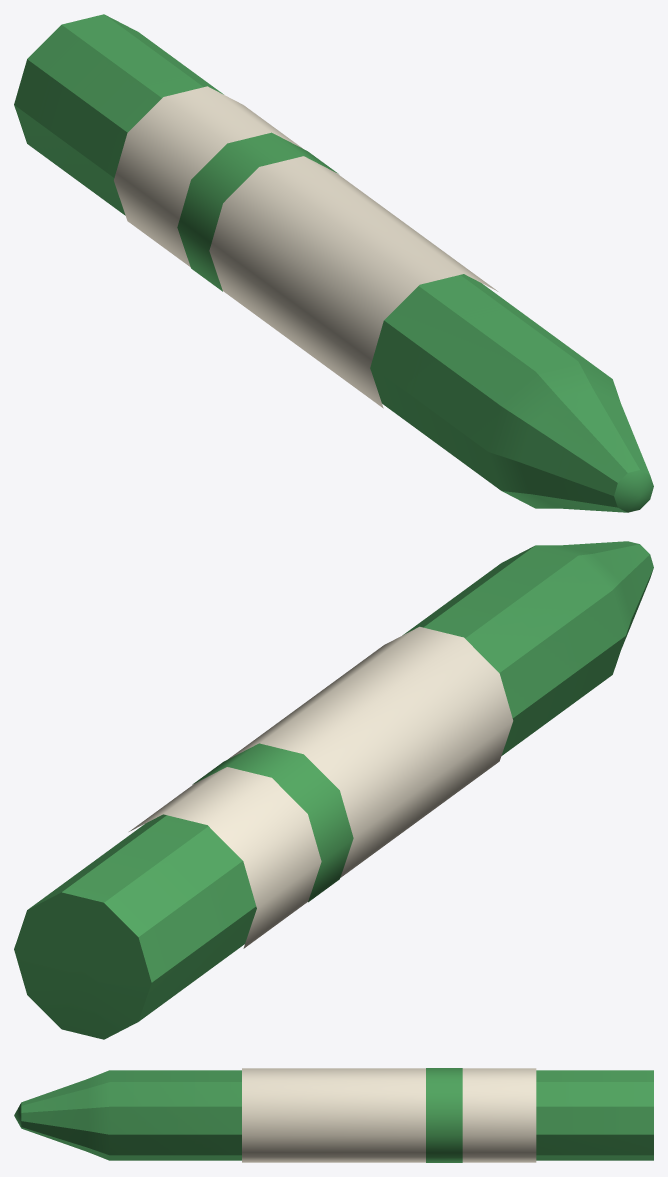
File: den_crayon_c.glb
3 renders of one model, top to bottom at view 1: azimuth 30°, elevation 25°; view 2: azimuth 150°, elevation 25°; view 3: azimuth 270°, elevation 25°, orthographic. The views are drawn at different scales.
Visible parts, largest first — view 1: den_crayon_c; view 2: den_crayon_c; view 3: den_crayon_c.
Part boxes in pixels (x1,y1,x2,y2): den_crayon_c: [14, 14, 653, 512]; den_crayon_c: [14, 541, 653, 1039]; den_crayon_c: [14, 1068, 653, 1162].
Size of the model in its own units: 1.3 by 1.24 by 8.7.
